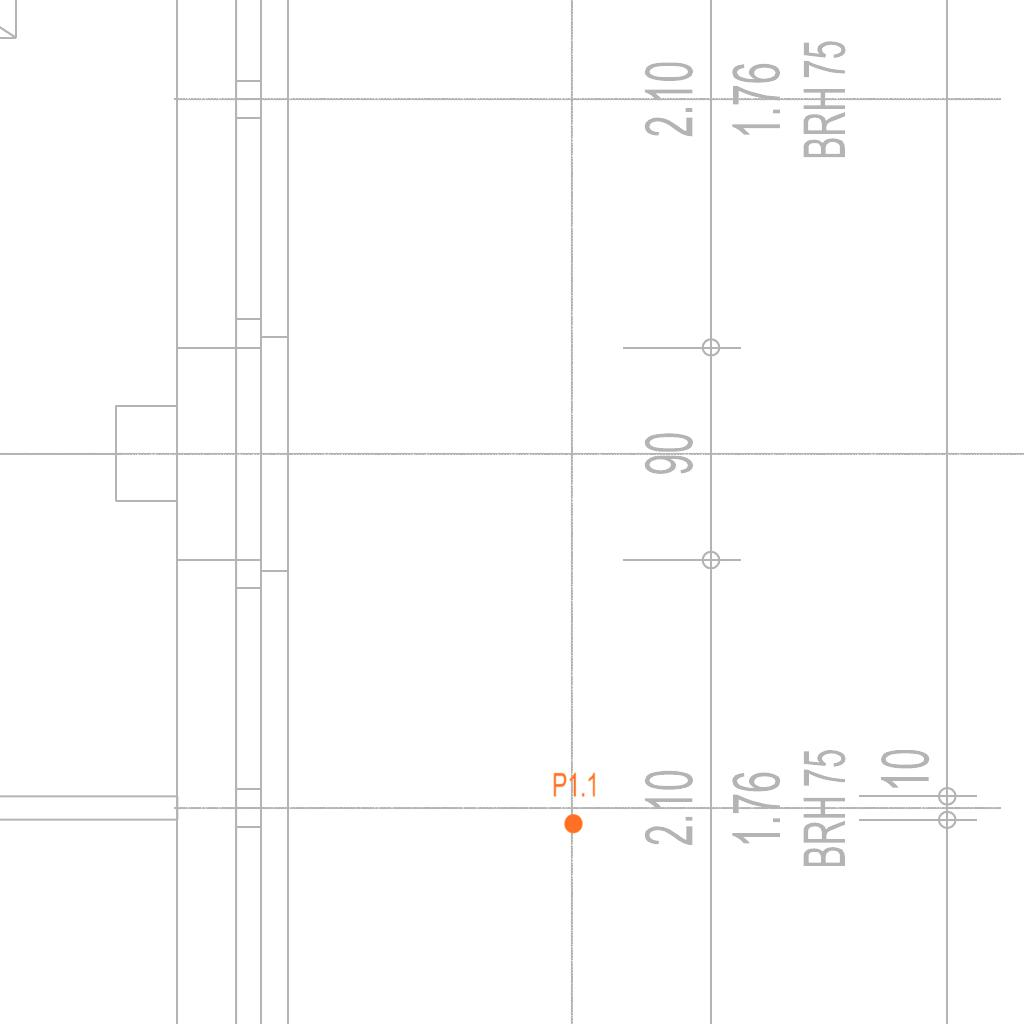Downlight_LED_Einbauleuchten_Flur_2: (552, 771, 598, 835)
